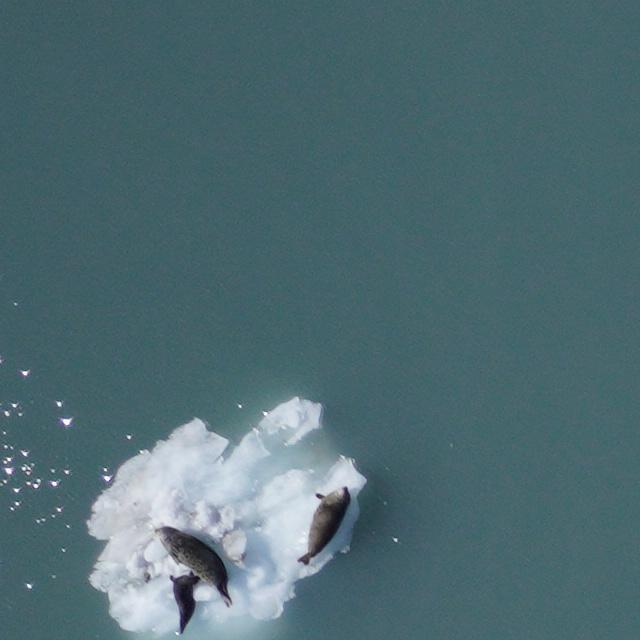seal: (150, 511, 252, 610), (285, 474, 357, 571), (161, 568, 201, 636)
